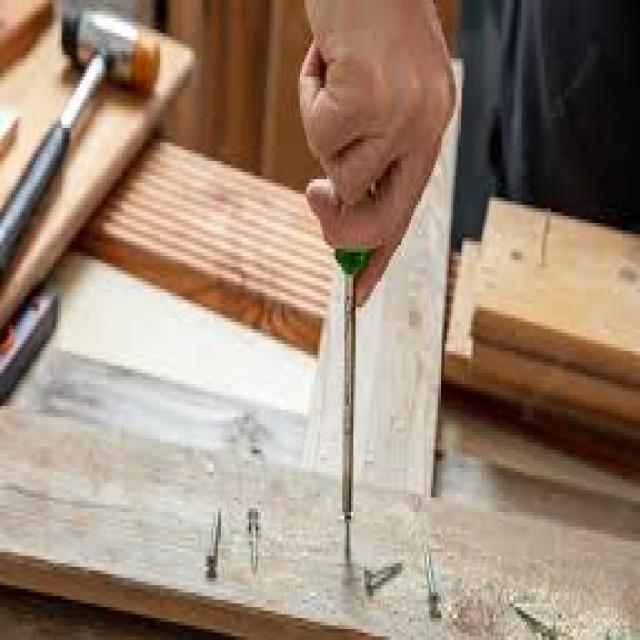hammer: (0, 0, 164, 281)
screwdriver: (322, 82, 391, 536)
